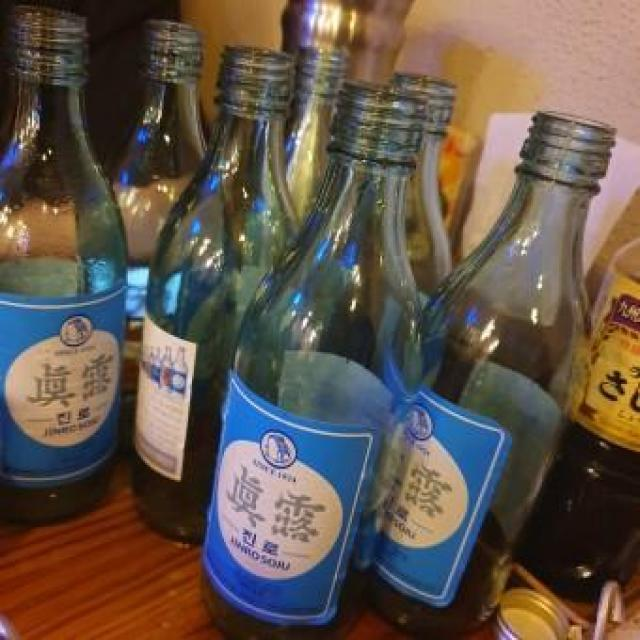soju-bottle: (376, 106, 622, 632), (201, 81, 431, 640), (132, 42, 307, 550), (2, 1, 124, 510), (92, 21, 226, 470), (271, 49, 356, 241), (396, 66, 467, 273)
